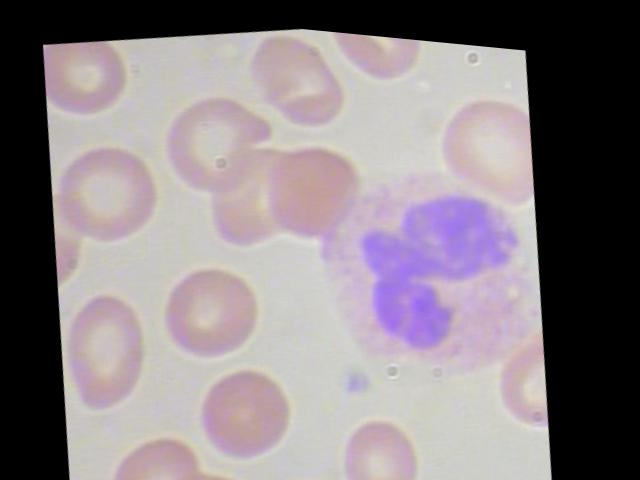Red Blood Cells: (147, 70, 291, 209), (414, 75, 546, 214), (46, 127, 174, 257), (54, 279, 167, 425), (150, 243, 279, 368), (189, 345, 318, 470), (248, 125, 377, 250), (236, 18, 354, 137), (37, 31, 140, 130), (333, 396, 439, 479), (98, 413, 226, 479), (324, 25, 433, 84), (153, 447, 273, 479), (265, 460, 359, 479)
White Blood Cells: (296, 133, 569, 415)
